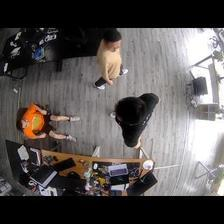normal: (108, 91, 161, 150), (16, 102, 78, 142), (92, 30, 129, 89)
